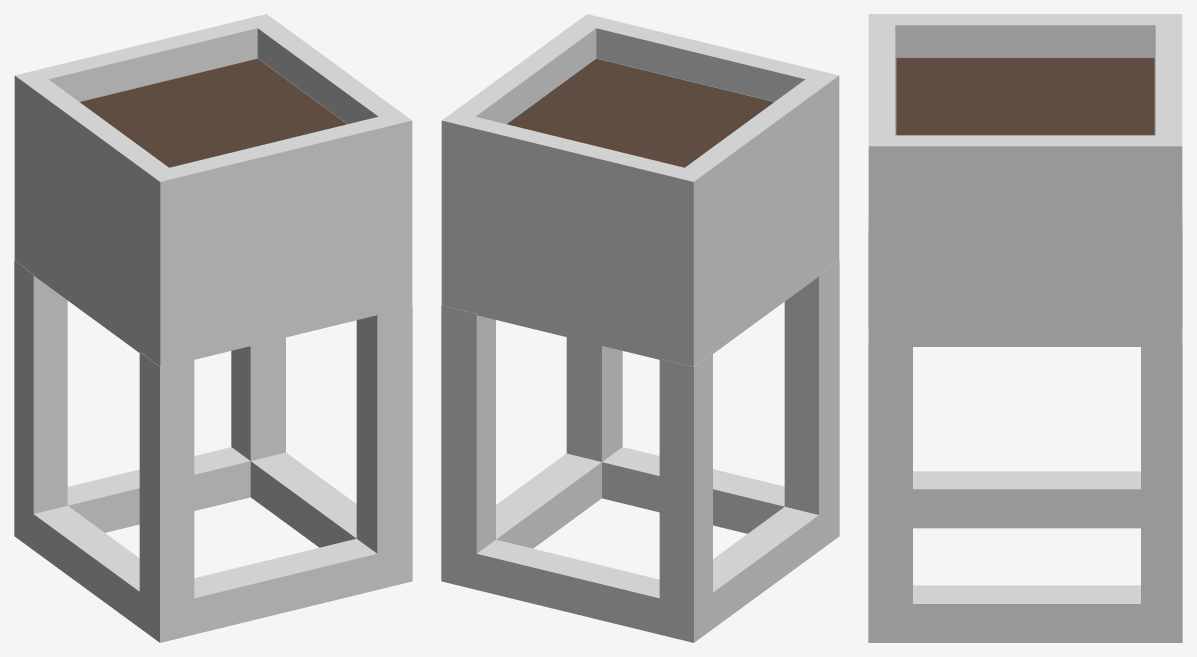
Rendered from plant04_01.gltf.
3 renders of one model, left to right at view 1: azimuth 30°, elevation 25°; view 2: azimuth 150°, elevation 25°; view 3: azimuth 270°, elevation 25°, orthographic. The views are drawn at different scales.
Visible parts, largest first — view 1: pot02, pot, dirt; view 2: pot02, pot, dirt; view 3: pot02, pot, dirt.
Boxes of the visible parts, <box> form: pot02: <box>14,14,412,366</box>; pot: <box>14,260,412,642</box>; dirt: <box>79,58,347,167</box>; pot02: <box>441,14,839,366</box>; pot: <box>441,260,839,642</box>; dirt: <box>506,58,774,167</box>; pot02: <box>868,14,1182,346</box>; pot: <box>868,213,1182,642</box>; dirt: <box>895,57,1155,135</box>.
Bounding box in the file's own units: 0.0142 × 0.0248 × 0.0142.
Materials: 1 (1 with a texture image).
